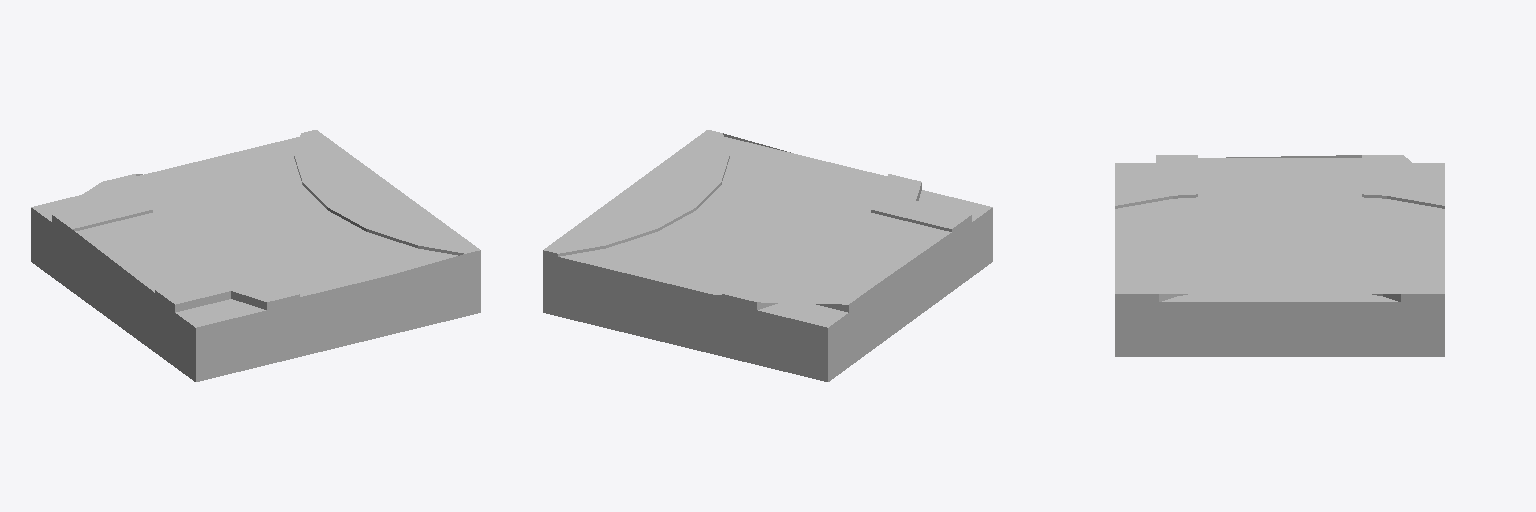
Rendered from roadTile_043.obj.
3 views of the same model, side by side, from view 1: azimuth 30°, elevation 25°; view 2: azimuth 150°, elevation 25°; view 3: azimuth 270°, elevation 25° (orthographic).
Parts seen in each view (by area): view 1: Mesh1 Group1 Model; view 2: Mesh1 Group1 Model; view 3: Mesh1 Group1 Model.
Part boxes in pixels (bbox=[...]): Mesh1 Group1 Model: bbox=[31, 130, 480, 381]; Mesh1 Group1 Model: bbox=[543, 130, 992, 381]; Mesh1 Group1 Model: bbox=[1115, 155, 1444, 356].
Size of the model in its own units: 3 by 0.63 by 3.